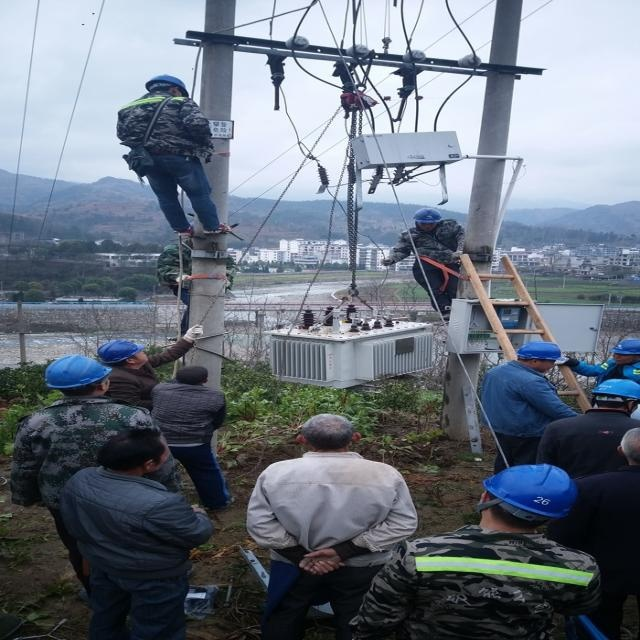Con_Casco: (487, 462, 575, 528)
Sin_Casco_Mascarrilla: (99, 426, 171, 478), (300, 411, 357, 453)
Sin_Chaleco: (267, 457, 404, 569), (61, 476, 190, 584)
